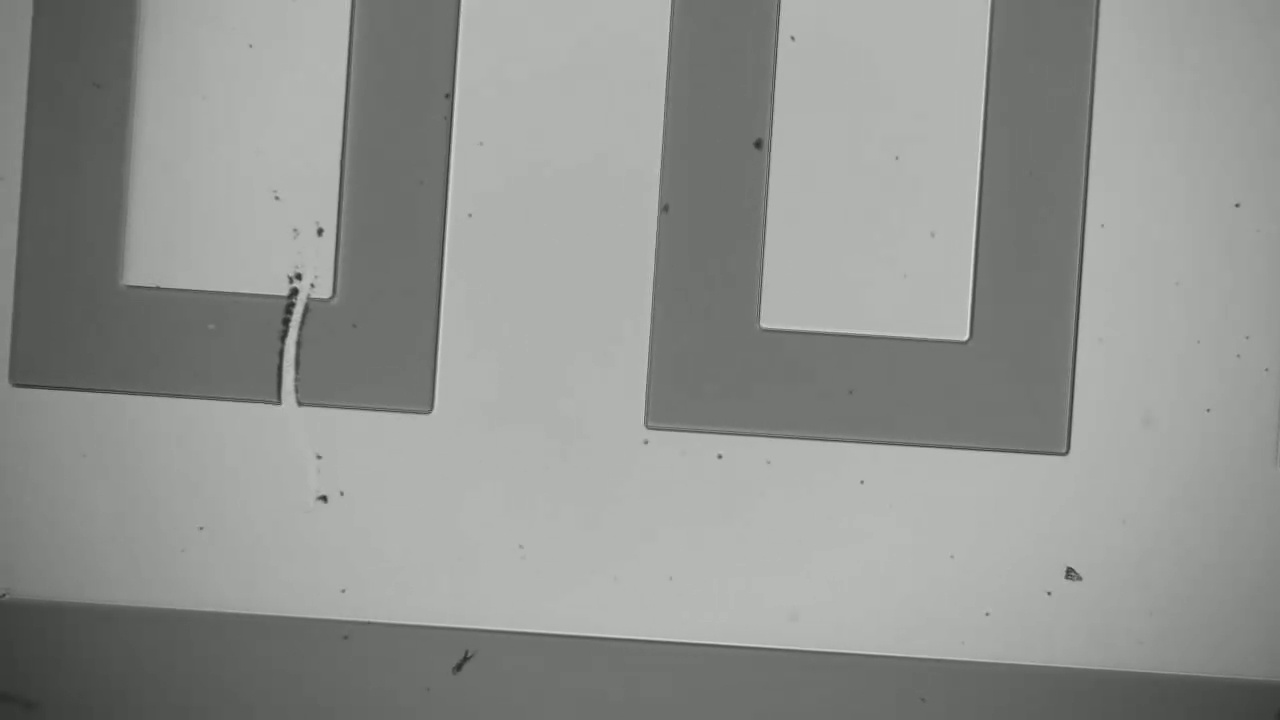Short_circuit: (257, 274, 324, 434)
